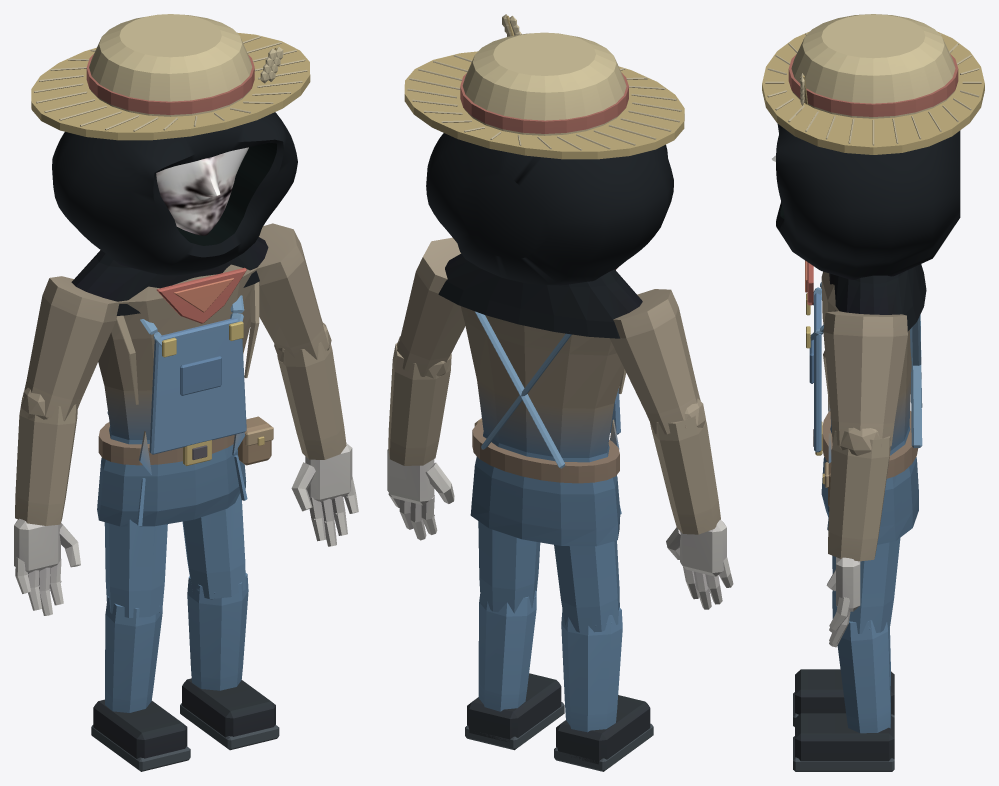
Rendered from HoodedStrangerFarmer.glb.
The picture shows the model from 3 angles, left to right: view 1: azimuth 30°, elevation 25°; view 2: azimuth 150°, elevation 25°; view 3: azimuth 270°, elevation 25°; orthographic projection.
Parts seen in each view (by area): view 1: Head, Body, ArmR, ArmL, LegR, LegL, HeadFace; view 2: Head, Body, ArmR, LegR, ArmL, LegL; view 3: Head, ArmL, LegL, Body, LegR.
Part boxes in pixels (bbox=[...]): Head: bbox=[31, 14, 310, 315]; Body: bbox=[97, 264, 273, 526]; ArmR: bbox=[14, 276, 119, 615]; ArmL: bbox=[256, 223, 358, 546]; LegR: bbox=[91, 519, 190, 771]; LegL: bbox=[180, 493, 279, 750]; HeadFace: bbox=[156, 147, 248, 235]; Head: bbox=[404, 14, 684, 338]; Body: bbox=[460, 268, 626, 546]; ArmR: bbox=[610, 289, 733, 609]; LegR: bbox=[554, 540, 653, 771]; ArmL: bbox=[387, 237, 465, 540]; LegL: bbox=[465, 521, 564, 750]; Head: bbox=[762, 14, 984, 331]; ArmL: bbox=[823, 311, 907, 647]; LegL: bbox=[793, 538, 900, 771]; Body: bbox=[805, 260, 922, 544]; LegR: bbox=[793, 555, 894, 726].
Size of the model in its own units: 3.74 by 7.31 by 2.1.
Materials: 2 (1 with a texture image).
